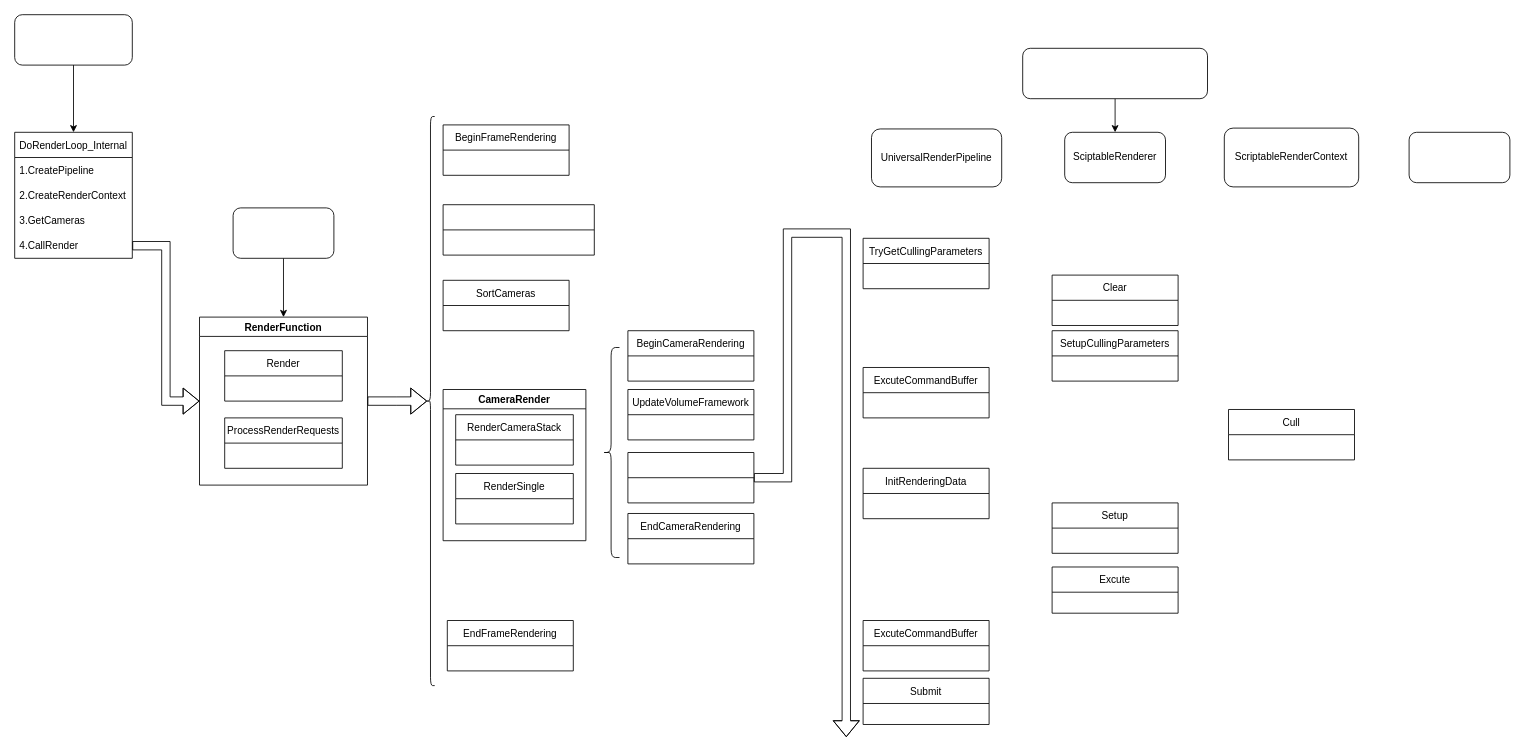
Some shapes in this 1525 by 752 pixel diagram are drawn without their labels. Here are the shapes that lost their labels. From the top down, the centre of each, then its label:
(x=73, y=39): RenderPipelineMnager
(x=1115, y=73): UniversalRenderPipelineAsset
(x=1459, y=157): CommandBuffer
(x=283, y=232): RenderPipeline
(x=518, y=229): SetupPerFrameShaderContants
(x=690, y=477): RenderSingleCamera
